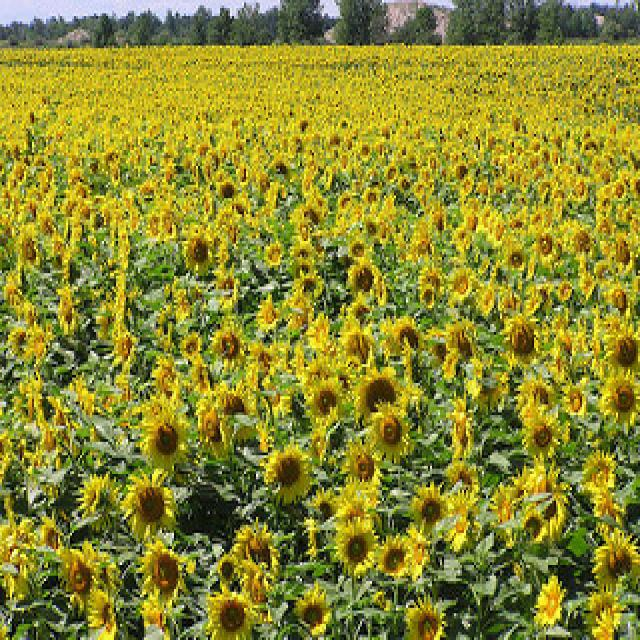sunflower: (329, 514, 379, 578), (264, 444, 314, 503), (339, 436, 382, 503), (135, 542, 183, 602), (140, 408, 184, 472), (594, 531, 640, 591), (207, 587, 258, 638), (596, 367, 640, 426), (125, 469, 172, 524), (365, 407, 412, 461), (292, 582, 334, 640), (194, 394, 232, 457), (518, 409, 562, 460), (405, 480, 446, 534), (356, 368, 398, 420), (404, 589, 445, 640), (602, 321, 640, 375), (212, 316, 249, 371), (306, 375, 344, 426), (339, 256, 382, 300), (500, 317, 540, 362), (579, 451, 617, 496), (375, 536, 415, 578), (88, 581, 116, 640), (181, 228, 210, 270)
